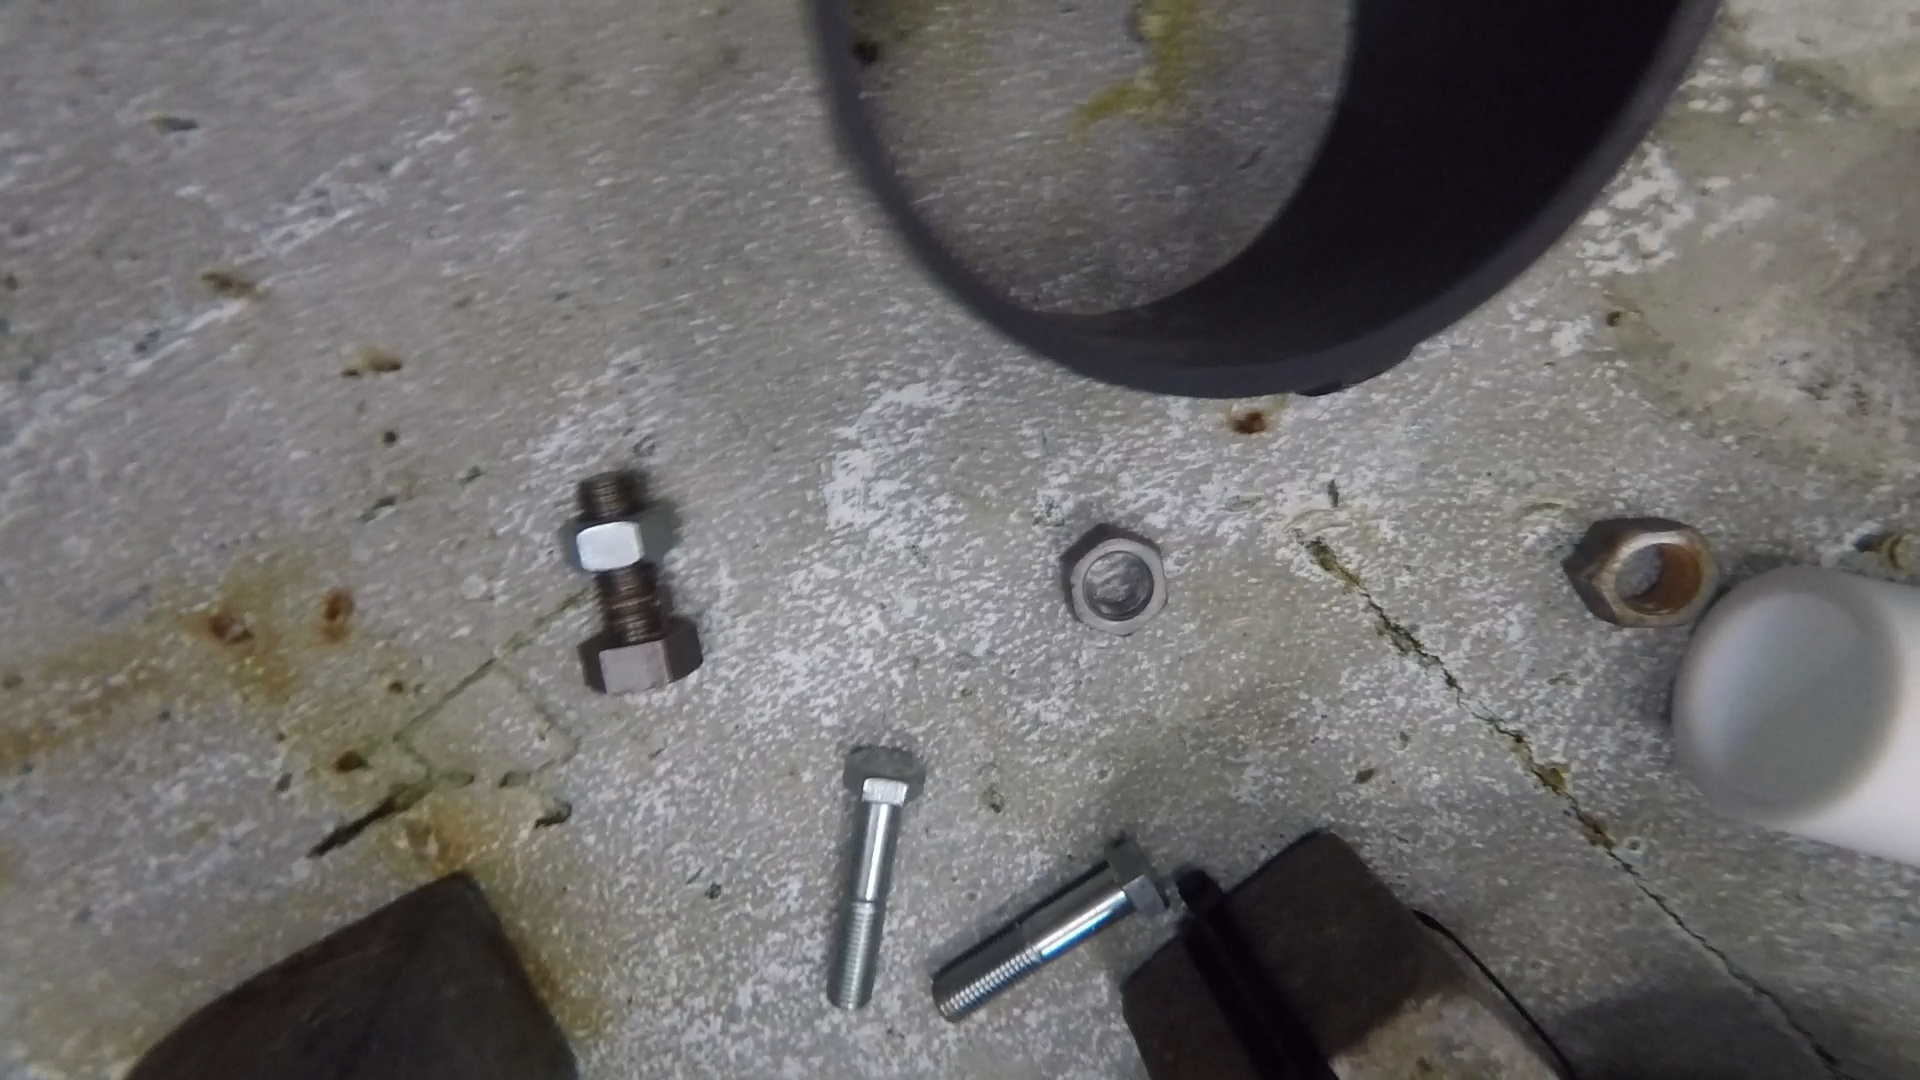bolt: (930, 828, 1168, 1027), (559, 468, 703, 695), (828, 746, 928, 1009)
led_block: (1121, 831, 1557, 1080), (124, 872, 587, 1080)
nut: (1563, 516, 1722, 626), (1062, 524, 1168, 637), (559, 501, 686, 580)
pipe: (815, 1, 1724, 400), (1669, 564, 1920, 868)
